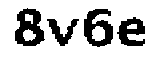6: (80, 3, 115, 51)
8: (9, 2, 45, 50)
e: (112, 13, 148, 52)
v: (46, 13, 81, 52)
